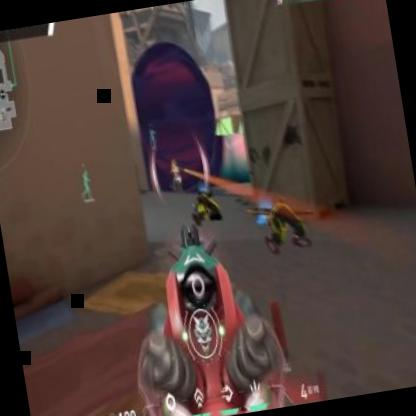enemy: (168, 158, 184, 192)
enemy_head: (170, 159, 176, 168)
